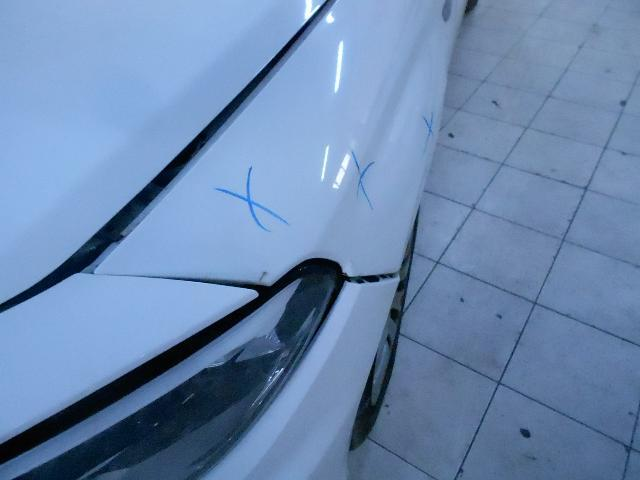dislocated part: (55, 0, 479, 299)
